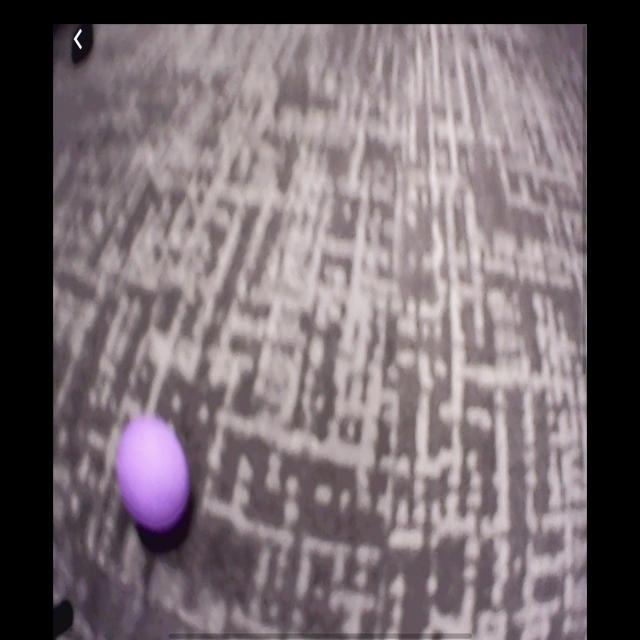ball: (119, 418, 189, 534)
